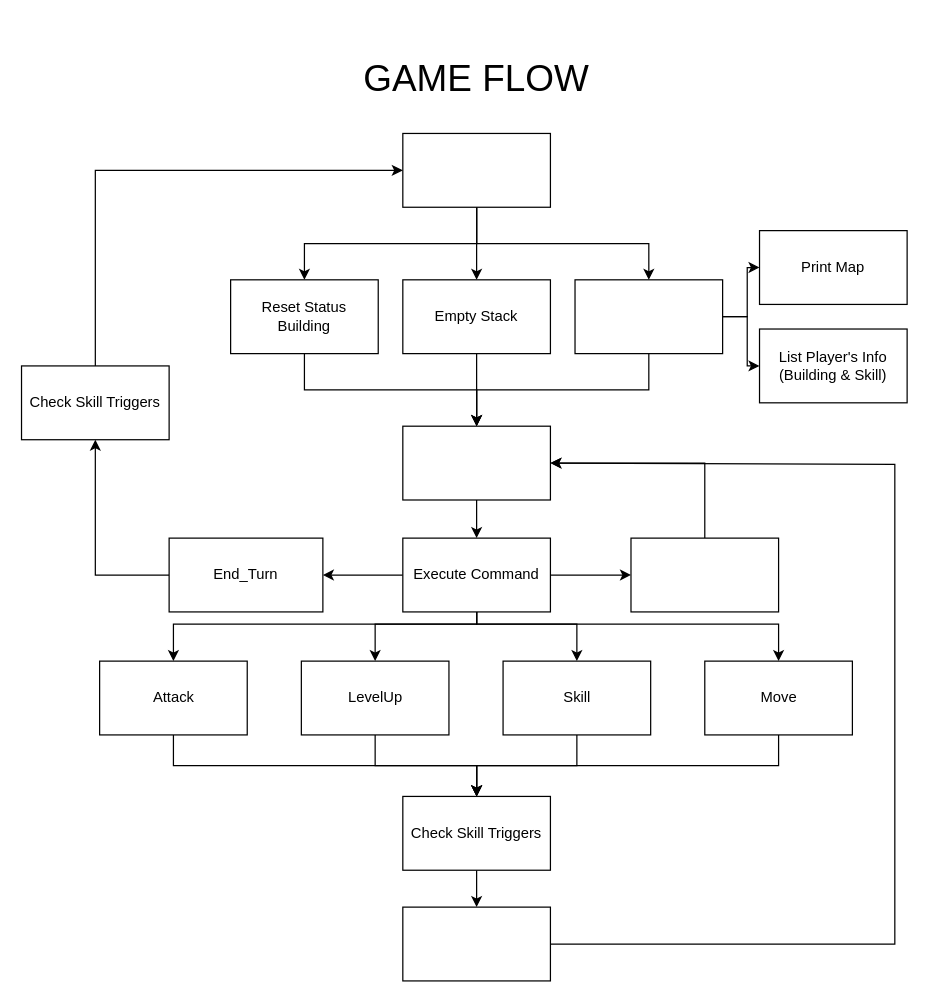
Image size: 929x1002. Some labels were removed from this diagram. Each missing label, with the centre of its shape:
Print GameMap Info: point (648, 316)
Push GameMap to Stack: point (476, 943)
Start Turn: point (476, 169)
Undo: point (704, 574)
Wait For Command: point (476, 462)
